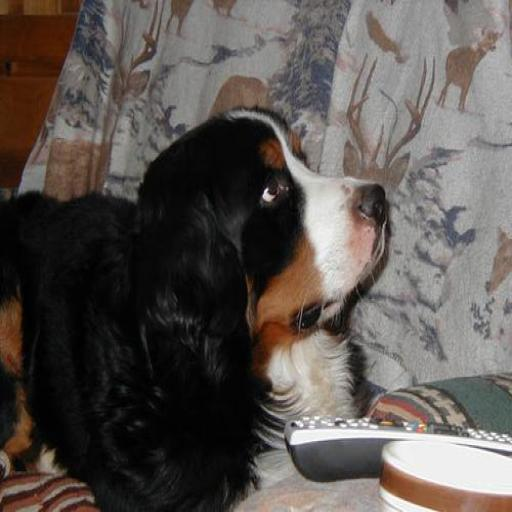dog_face: (178, 116, 384, 314)
